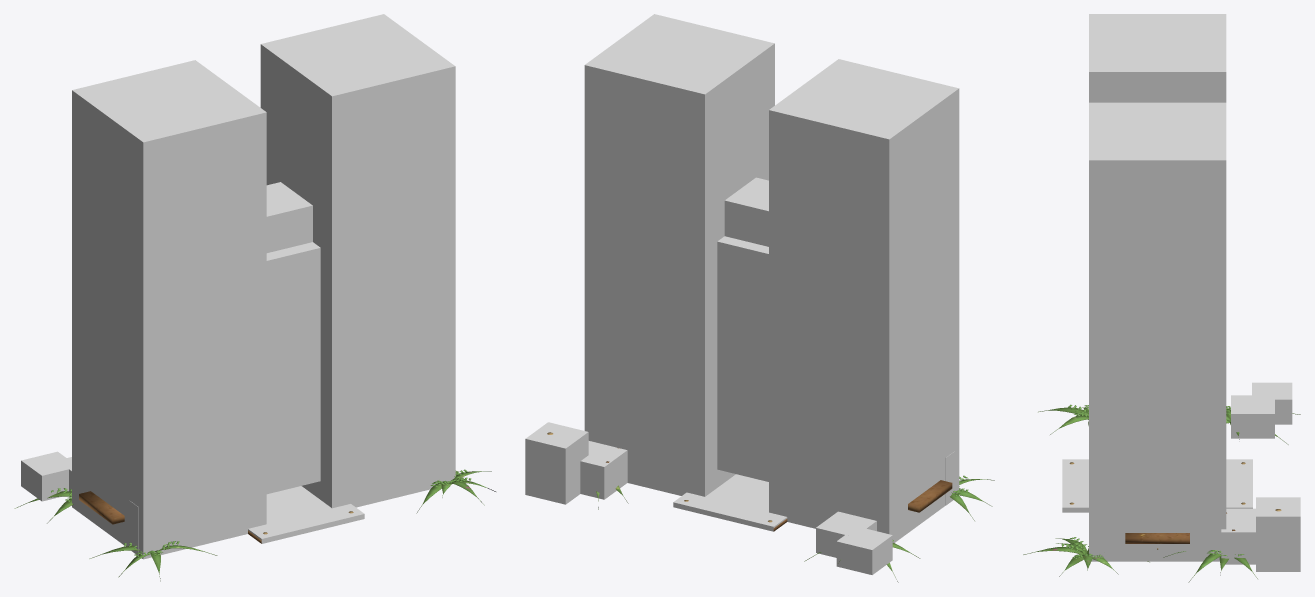
File: watch_tower_gate.glb
3 views of the same model, side by side, from view 1: azimuth 30°, elevation 25°; view 2: azimuth 150°, elevation 25°; view 3: azimuth 270°, elevation 25° (orthographic). The views are drawn at different scales.
Visible parts, largest first — view 1: col_bld_watch_tower_gate_base_L, col_bld_watch_tower_gate_base_R, col_bld_watch_tower_gate_pipes, col_bld_watch_tower_gate_path, col_bld_watch_tower_gate_arch, col_bld_PROP_crate_s_i.010, watch_tower_gate_body_a, watch_tower_gate_body_b; view 2: col_bld_watch_tower_gate_base_L, col_bld_watch_tower_gate_base_R, col_bld_watch_tower_gate_pipes, col_bld_PROP_barrel_i.007, col_bld_watch_tower_gate_path, col_bld_watch_tower_gate_arch, col_bld_PROP_crate_m_i.008, col_bld_PROP_crate_s_i.010, col_bld_PROP_crate_s_i.011, watch_tower_gate_body_a; view 3: col_bld_watch_tower_gate_base_R, col_bld_watch_tower_gate_base_L, col_bld_PROP_barrel_i.007, col_bld_watch_tower_gate_path, watch_tower_gate_body_b, col_bld_PROP_crate_s_i.011, col_bld_PROP_crate_m_i.008, col_bld_PROP_crate_s_i.010, col_bld_LAMP_cage_lantern_i.017, watch_tower_gate_body_a.
Boxes of the visible parts, x1,y1,x2,y2 form: col_bld_watch_tower_gate_base_L: (72, 60, 266, 559); col_bld_watch_tower_gate_base_R: (260, 14, 455, 508); col_bld_watch_tower_gate_pipes: (266, 242, 320, 494); col_bld_watch_tower_gate_path: (248, 486, 364, 543); col_bld_watch_tower_gate_arch: (266, 182, 312, 252); col_bld_PROP_crate_s_i.010: (21, 451, 68, 501); watch_tower_gate_body_a: (14, 488, 353, 581); watch_tower_gate_body_b: (416, 469, 495, 513); col_bld_watch_tower_gate_base_L: (769, 59, 959, 542); col_bld_watch_tower_gate_base_R: (584, 14, 774, 496); col_bld_watch_tower_gate_pipes: (717, 236, 768, 481); col_bld_PROP_barrel_i.007: (525, 422, 588, 504); col_bld_watch_tower_gate_path: (673, 474, 787, 531); col_bld_watch_tower_gate_arch: (724, 177, 768, 246); col_bld_PROP_crate_m_i.008: (580, 441, 627, 499); col_bld_PROP_crate_s_i.010: (836, 528, 892, 574); col_bld_PROP_crate_s_i.011: (816, 511, 876, 557); watch_tower_gate_body_a: (684, 475, 994, 582); col_bld_watch_tower_gate_base_R: (1089, 102, 1226, 561); col_bld_watch_tower_gate_base_L: (1089, 14, 1226, 102); col_bld_PROP_barrel_i.007: (1256, 497, 1300, 571); col_bld_watch_tower_gate_path: (1062, 459, 1252, 512); watch_tower_gate_body_b: (1023, 509, 1281, 582); col_bld_PROP_crate_s_i.011: (1231, 395, 1274, 438); col_bld_PROP_crate_m_i.008: (1221, 508, 1255, 564); col_bld_PROP_crate_s_i.010: (1252, 382, 1292, 424); col_bld_LAMP_cage_lantern_i.017: (1098, 514, 1115, 561); watch_tower_gate_body_a: (1038, 404, 1300, 504).
Size of the model in its own units: 6.84 by 7.16 by 4.37.
23 materials, 8 textured.
